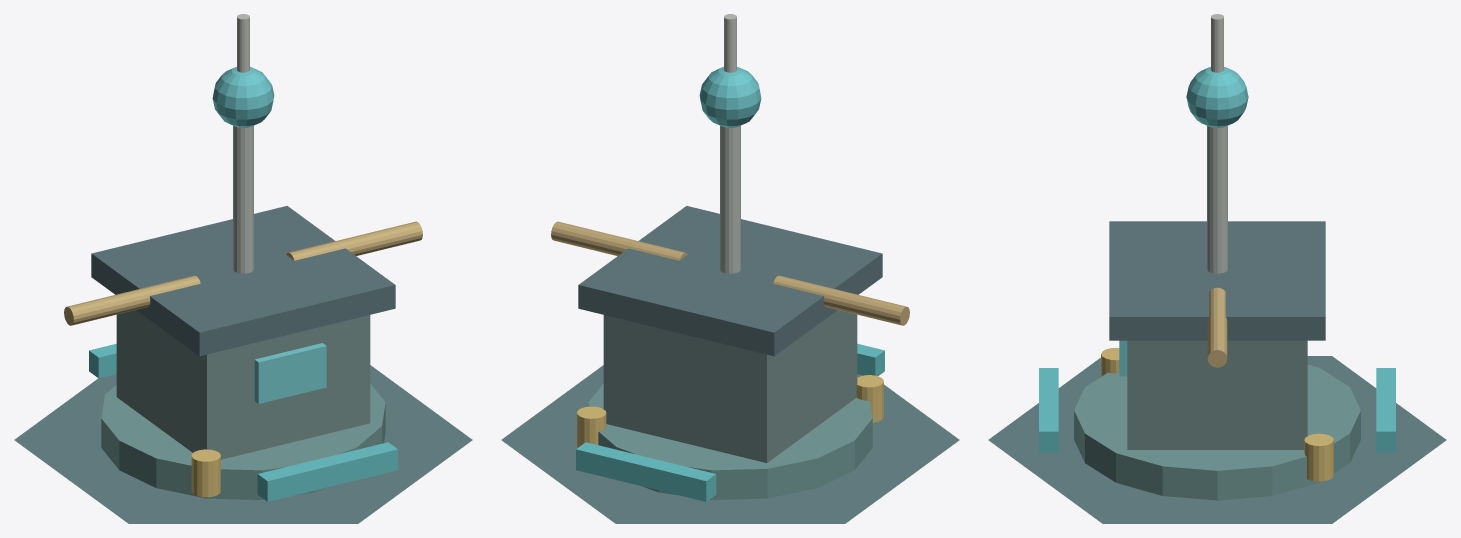
File: logistics.glb
3 renders of one model, left to right at view 1: azimuth 30°, elevation 25°; view 2: azimuth 150°, elevation 25°; view 3: azimuth 270°, elevation 25°, orthographic.
Bounding box in the file's own units: 2.46 × 2.85 × 2.8.
